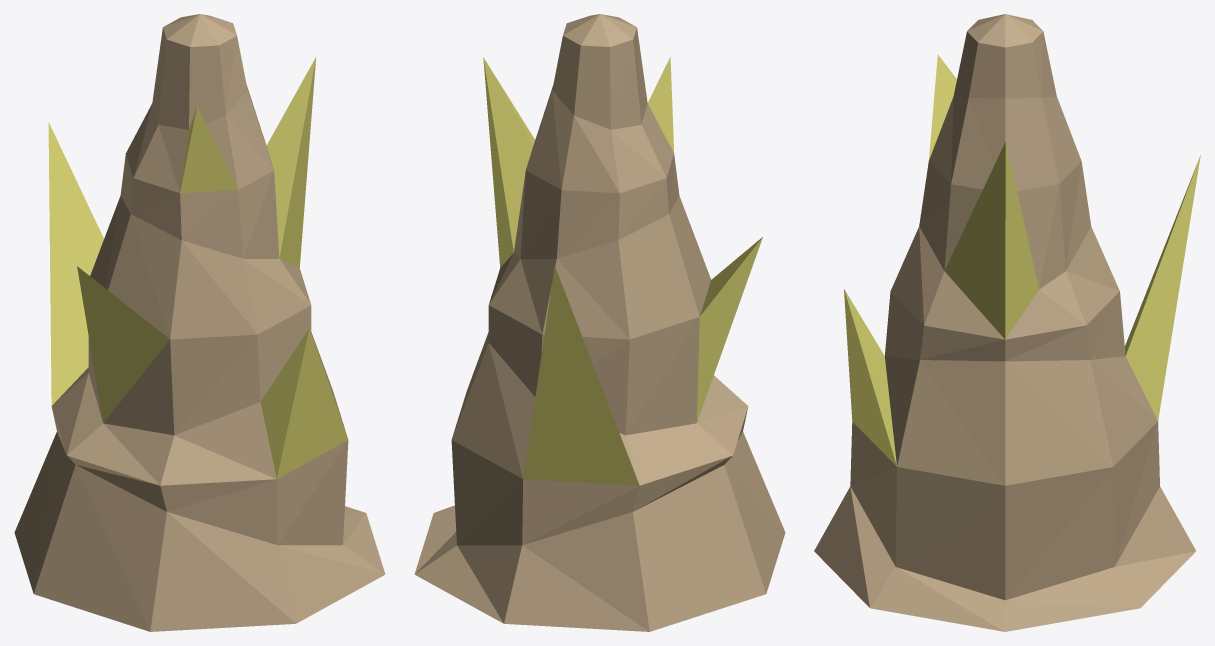
The model's file is Stalagmite1b.fbx.
3 views of the same model, side by side, from view 1: azimuth 30°, elevation 25°; view 2: azimuth 150°, elevation 25°; view 3: azimuth 270°, elevation 25° (orthographic).
Parts seen in each view (by area): view 1: Circle; view 2: Circle; view 3: Circle.
Part boxes in pixels (box(x1,y1,x2,y2)): Circle: box(14, 14, 385, 631); Circle: box(414, 14, 785, 631); Circle: box(814, 14, 1200, 631).
Bounding box in the file's own units: 200 × 310 × 202.
